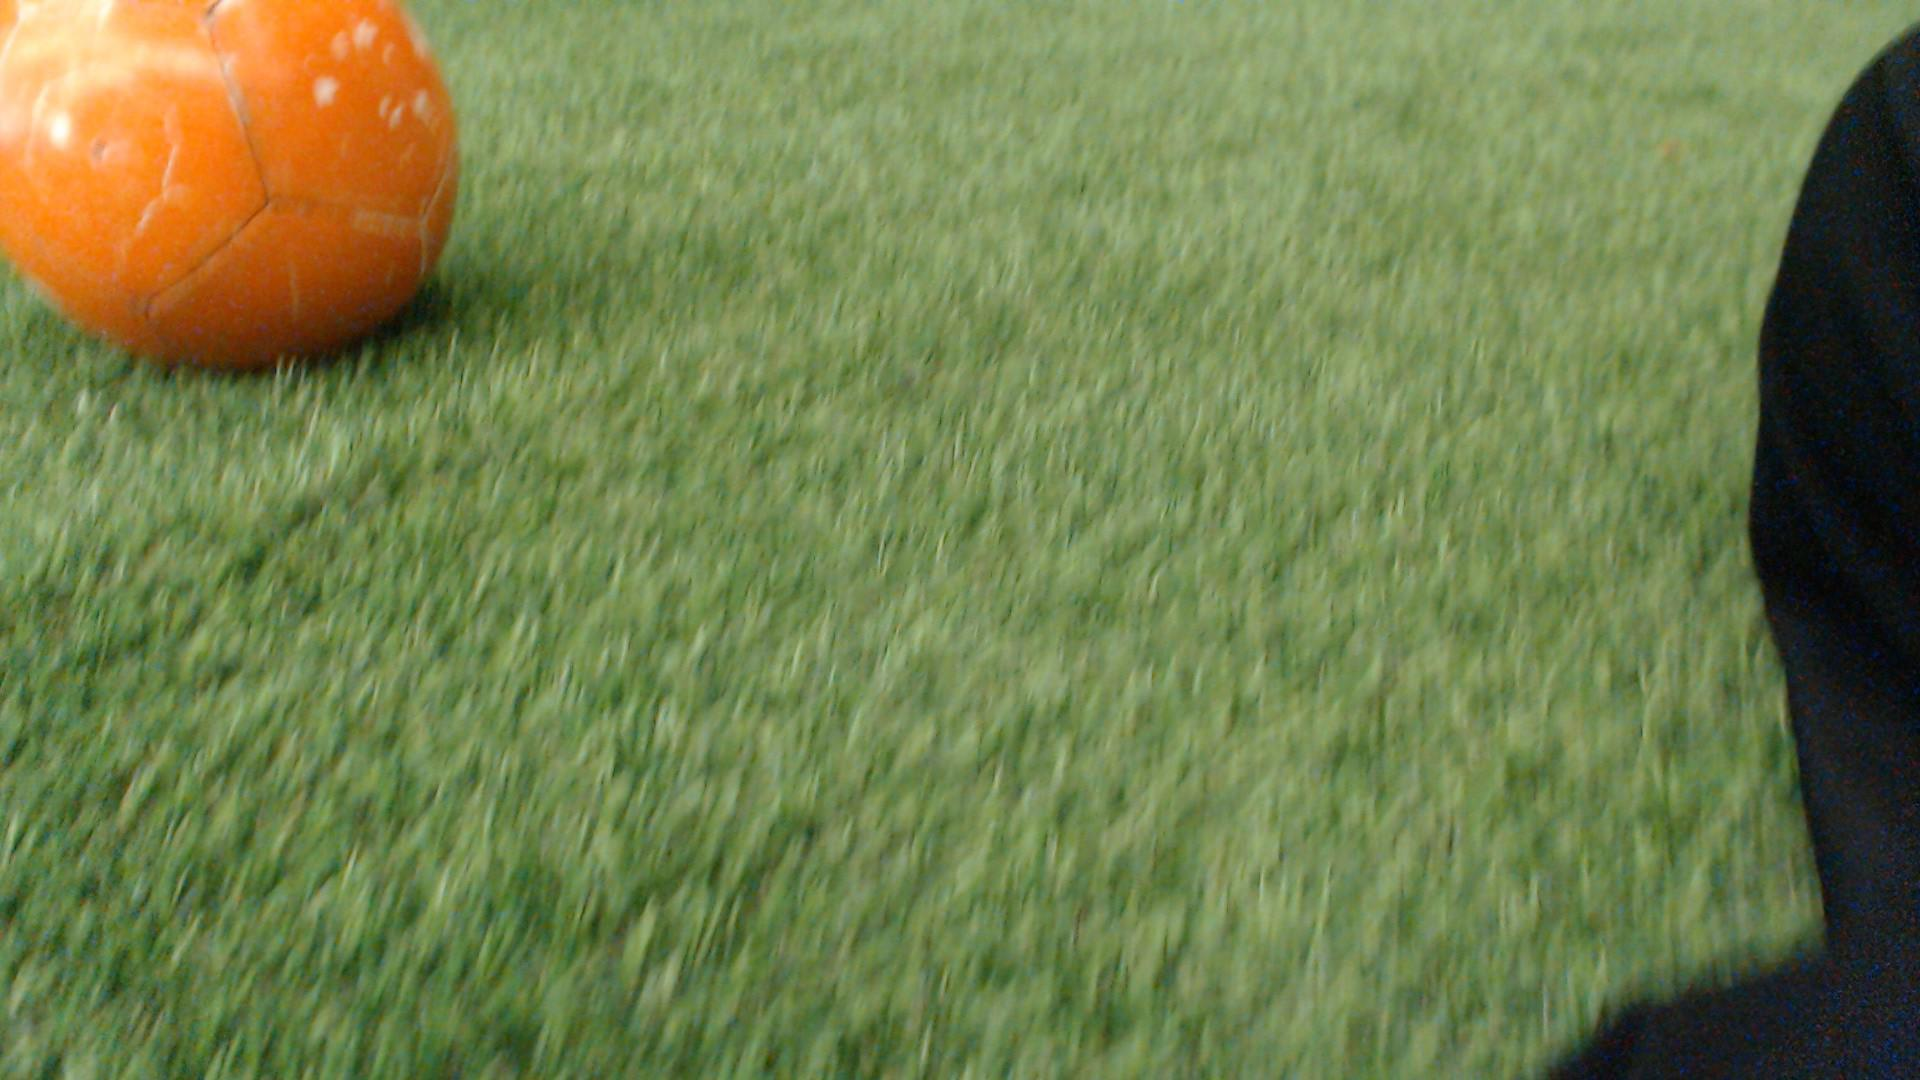bola: (0, 0, 525, 386)
